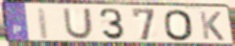3: (98, 8, 127, 41)
7: (130, 7, 157, 43)
I: (36, 7, 51, 41)
K: (198, 10, 226, 42)
O: (162, 9, 196, 43)
U: (62, 8, 94, 41)
